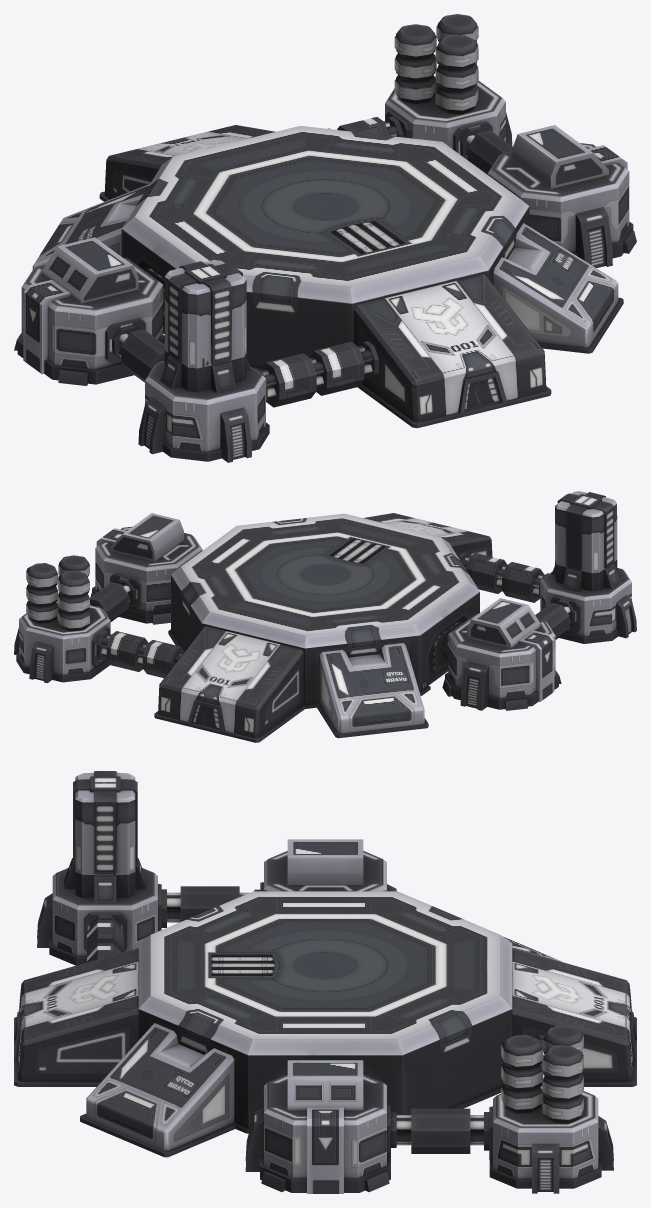
File: Plane_Structure.fbx
The picture shows the model from 3 angles, top to bottom: view 1: azimuth 30°, elevation 25°; view 2: azimuth 150°, elevation 25°; view 3: azimuth 270°, elevation 25°; orthographic projection. The views are drawn at different scales.
Parts seen in each view (by area): view 1: Base_low, Side_Block_low, Big_Block_low, Corner_Block_low, Small_Block_low, vertical_Block_low, Cell_Block_low; view 2: Base_low, Side_Block_low, Corner_Block_low, Big_Block_low, Small_Block_low, vertical_Block_low, Cell_Block_low; view 3: Base_low, Big_Block_low, Corner_Block_low, Side_Block_low, Small_Block_low, vertical_Block_low, Cell_Block_low.
Part boxes in pixels (<box>): Base_low: <box>121,126,529,370</box>; Side_Block_low: <box>14,125,636,385</box>; Big_Block_low: <box>99,125,551,428</box>; Corner_Block_low: <box>118,76,512,462</box>; Small_Block_low: <box>32,184,623,353</box>; vertical_Block_low: <box>160,260,250,392</box>; Cell_Block_low: <box>394,14,478,114</box>; Base_low: <box>168,513,479,708</box>; Side_Block_low: <box>90,513,561,710</box>; Corner_Block_low: <box>14,553,636,683</box>; Big_Block_low: <box>154,513,492,742</box>; Small_Block_low: <box>316,643,428,738</box>; vertical_Block_low: <box>551,491,620,591</box>; Cell_Block_low: <box>26,555,89,631</box>; Base_low: <box>138,891,512,1133</box>; Big_Block_low: <box>14,948,636,1086</box>; Corner_Block_low: <box>37,868,613,1193</box>; Side_Block_low: <box>245,839,396,1193</box>; Small_Block_low: <box>80,937,562,1157</box>; vertical_Block_low: <box>64,771,146,903</box>; Cell_Block_low: <box>501,1025,583,1123</box>.
Size of the model in its own units: 27.17 by 7.19 by 25.47.
